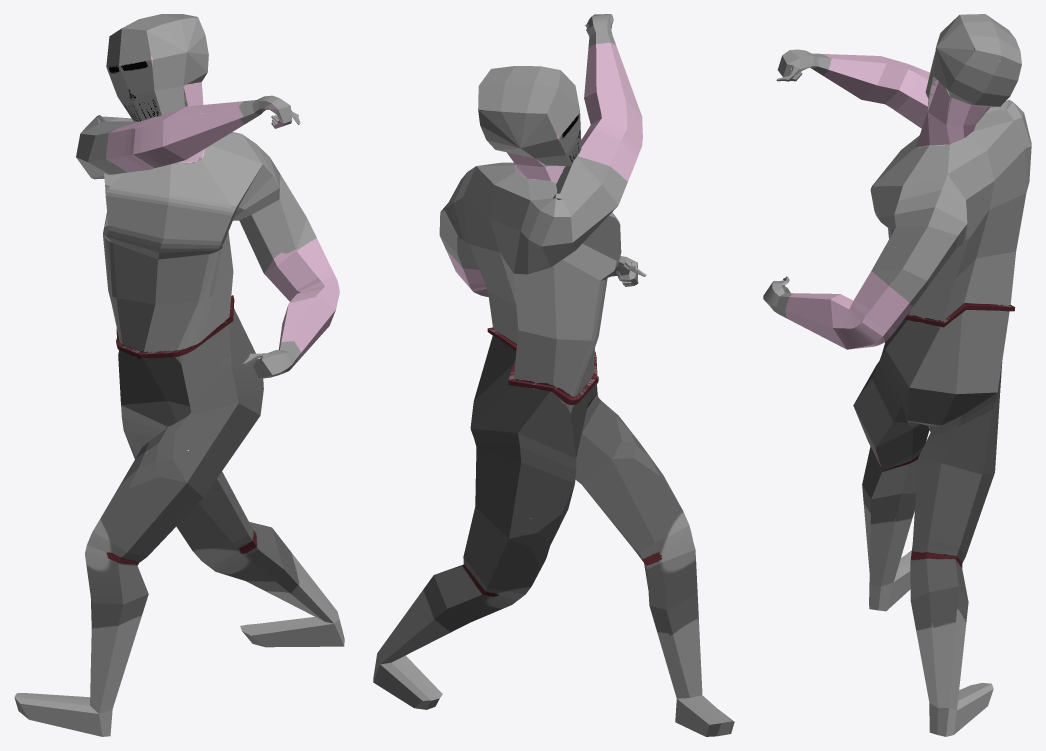
The model's file is Stable Sword Outward Slash.fbx.
3 views of the same model, side by side, from view 1: azimuth 30°, elevation 25°; view 2: azimuth 150°, elevation 25°; view 3: azimuth 270°, elevation 25° (orthographic). The views are drawn at different scales.
Parts seen in each view (by area): view 1: Cube.003; view 2: Cube.003; view 3: Cube.003.
Part boxes in pixels (x1=…): Cube.003: x1=14, y1=14, x2=344, y2=736; Cube.003: x1=373, y1=14, x2=734, y2=736; Cube.003: x1=763, y1=14, x2=1031, y2=736.
Size of the model in its own units: 0.9192 by 1.68 by 0.644.
